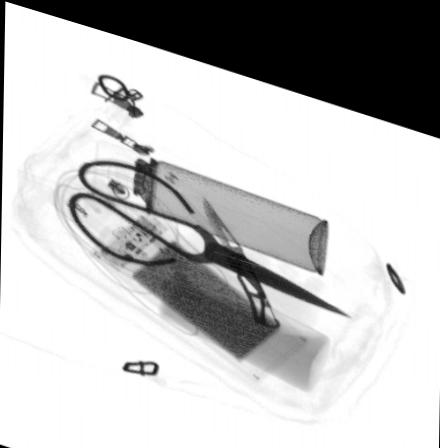Knife: (200, 178, 283, 310)
Powerbank: (81, 190, 308, 365)
Scissors: (67, 152, 356, 296)
Sprayer: (94, 134, 328, 255)
